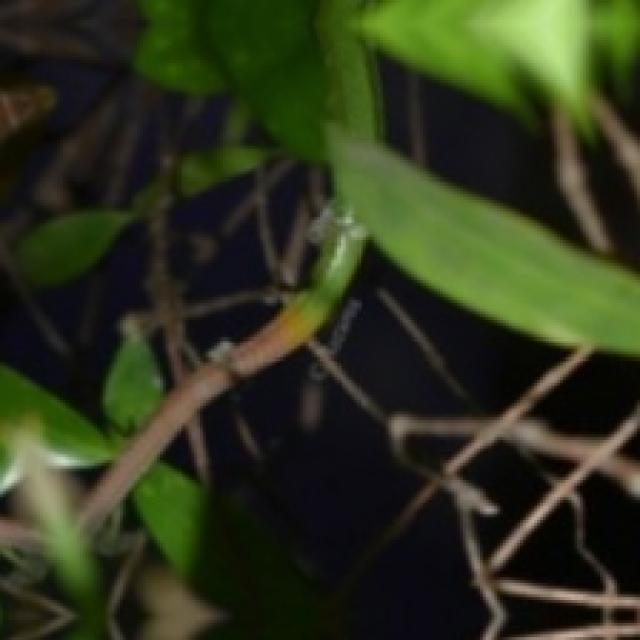red-tailed green ratsnake: (81, 199, 368, 528), (320, 0, 378, 143)
